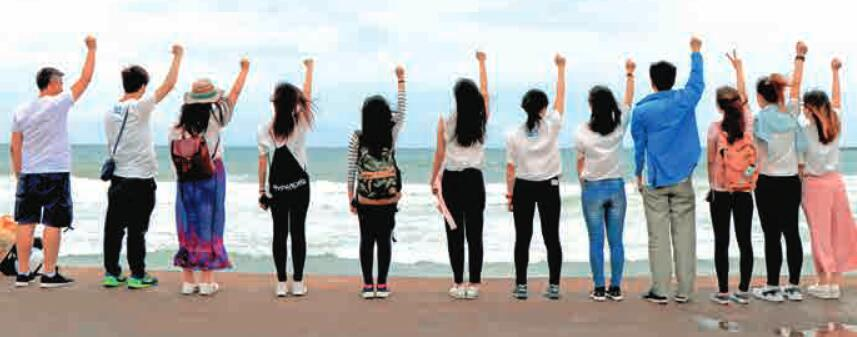handsup: (7, 35, 102, 293), (97, 21, 185, 290), (626, 20, 707, 310), (168, 59, 261, 306), (742, 26, 817, 312), (247, 43, 328, 305), (499, 39, 575, 309), (426, 46, 499, 309), (569, 54, 641, 319), (342, 57, 417, 305), (800, 50, 857, 299), (703, 35, 752, 313)
